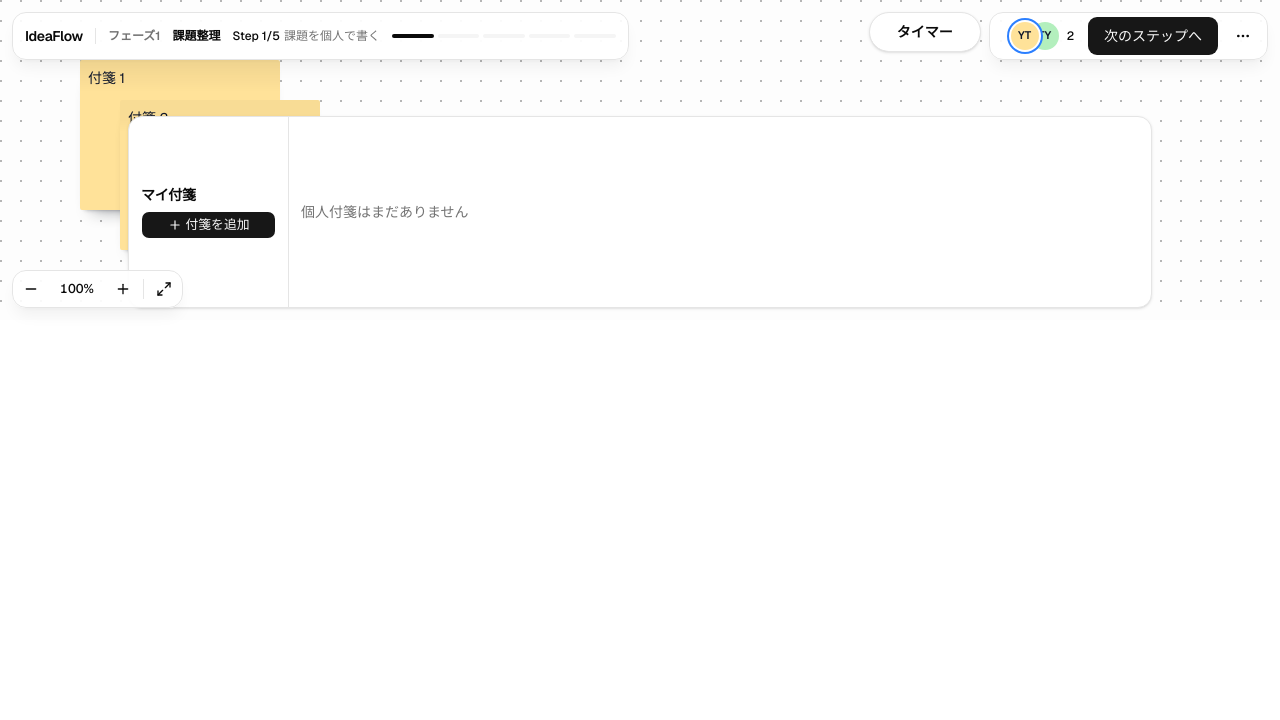
Test case: 退出・解散ボタン › ホストは「ルームを解散」ボタンが描画される
Click the button named "ルームメニューを開く": (1243, 36) [1223,16,1263,56]
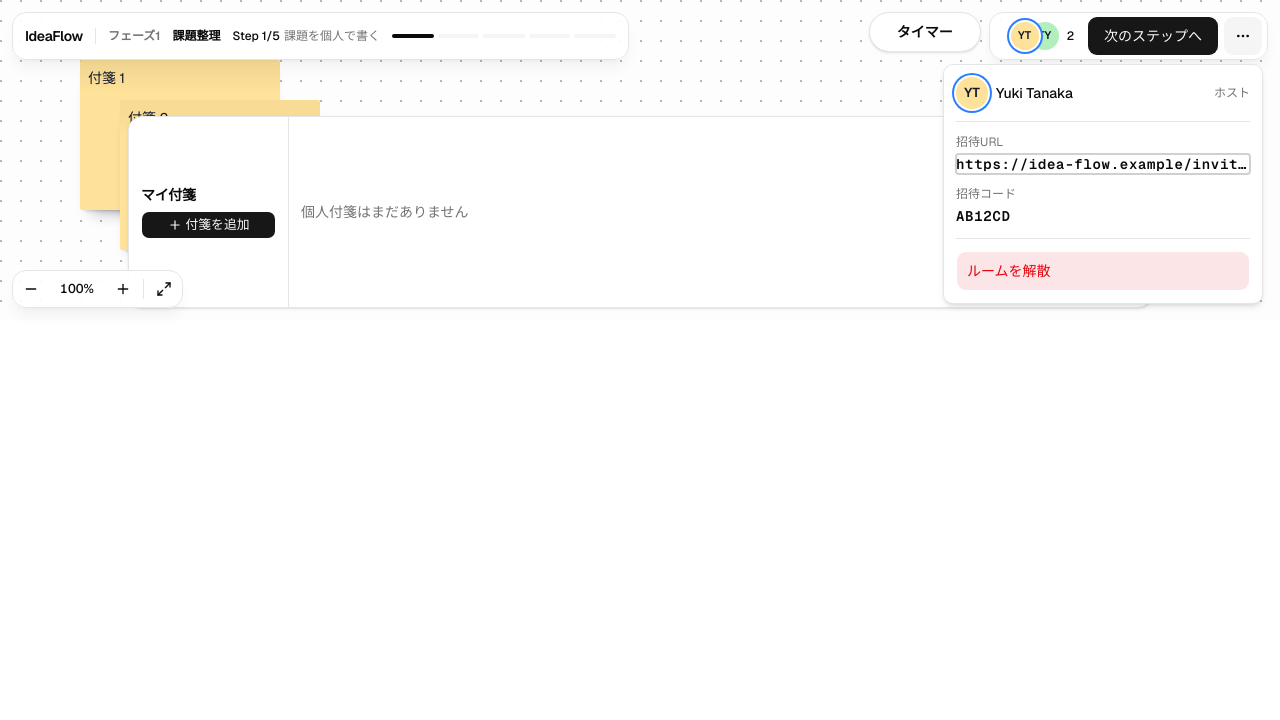
expect the button "ルームを解散" is shown: met, box [956,251,1250,291]
